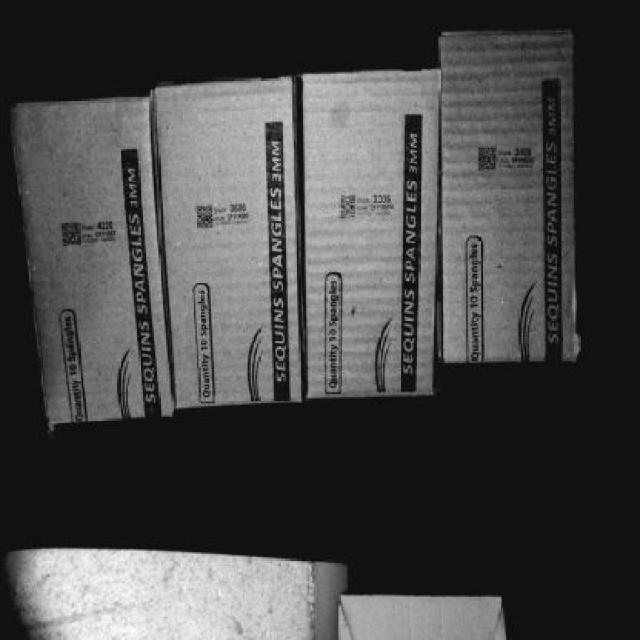box: (10, 101, 173, 424), (152, 83, 312, 412), (446, 28, 582, 366), (306, 74, 439, 397), (153, 408, 170, 410), (156, 80, 159, 82)
